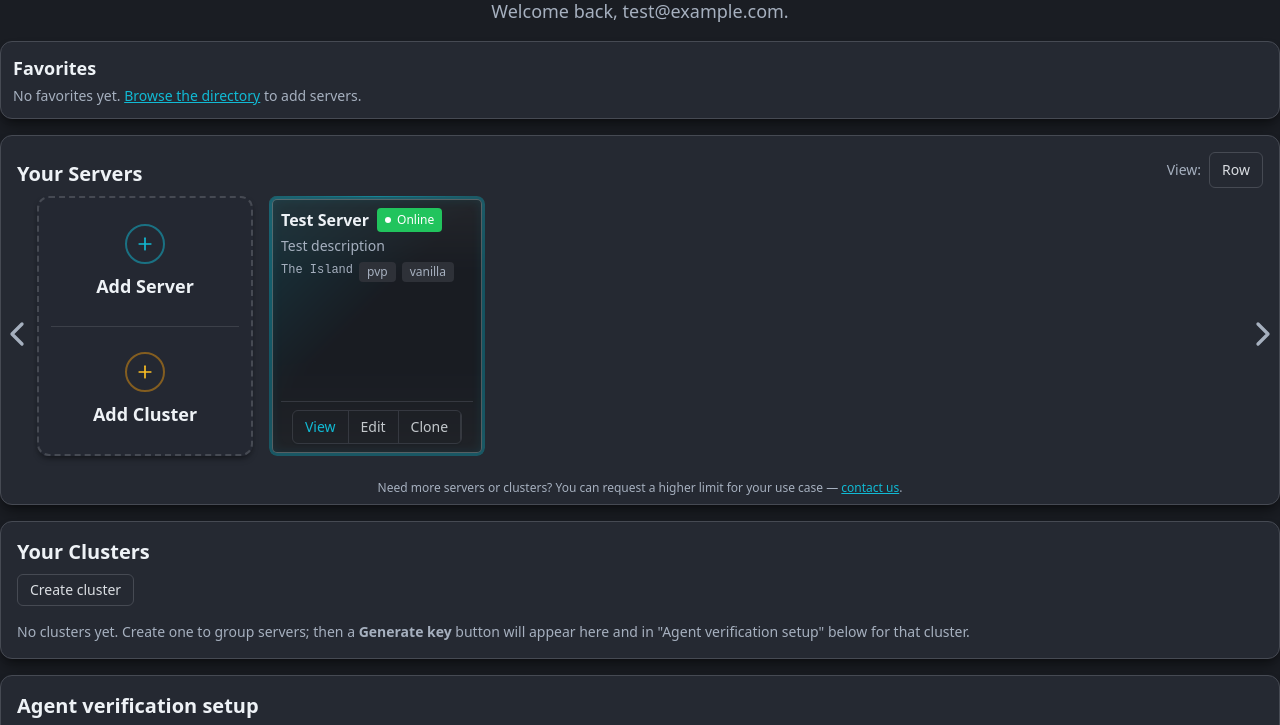
Scenario: DashboardPage › shows delete confirmation dialog
Click the button "Edit" at (374, 427), box [348,411,399,443]
(page scrolled)
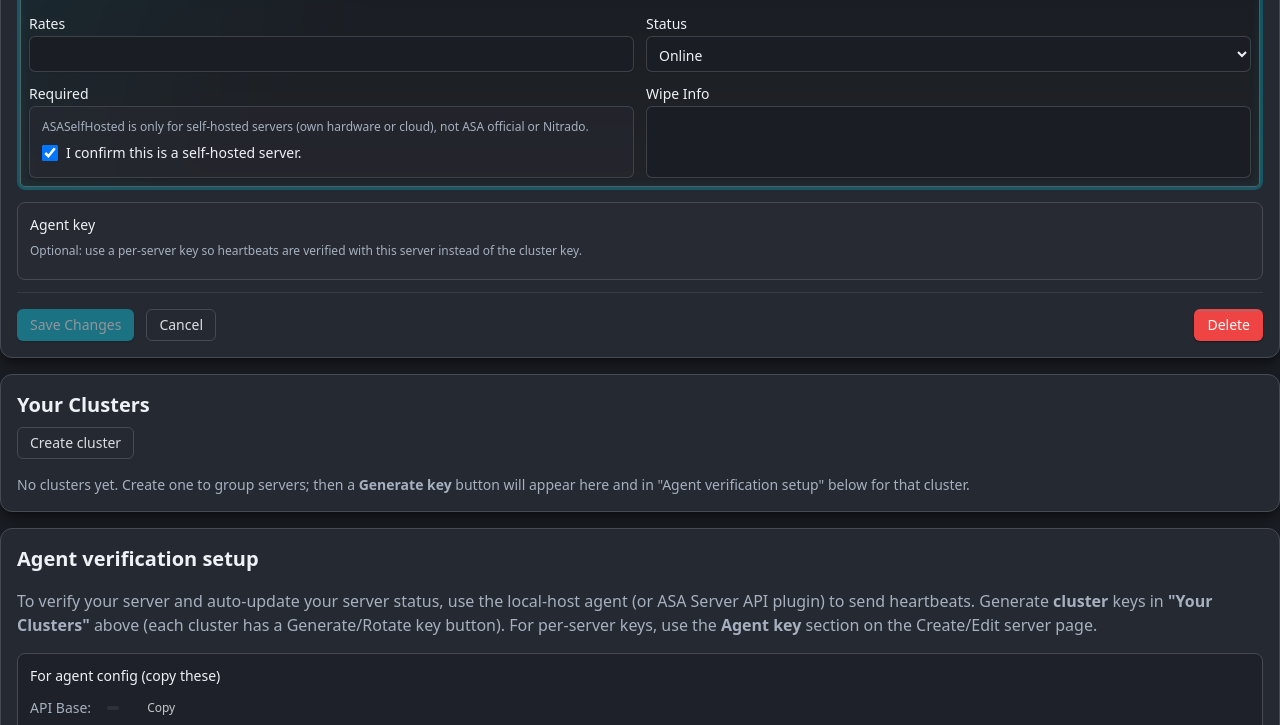
Click the button with aria-label "delete server" at (1229, 325), box [1194,309,1263,341]
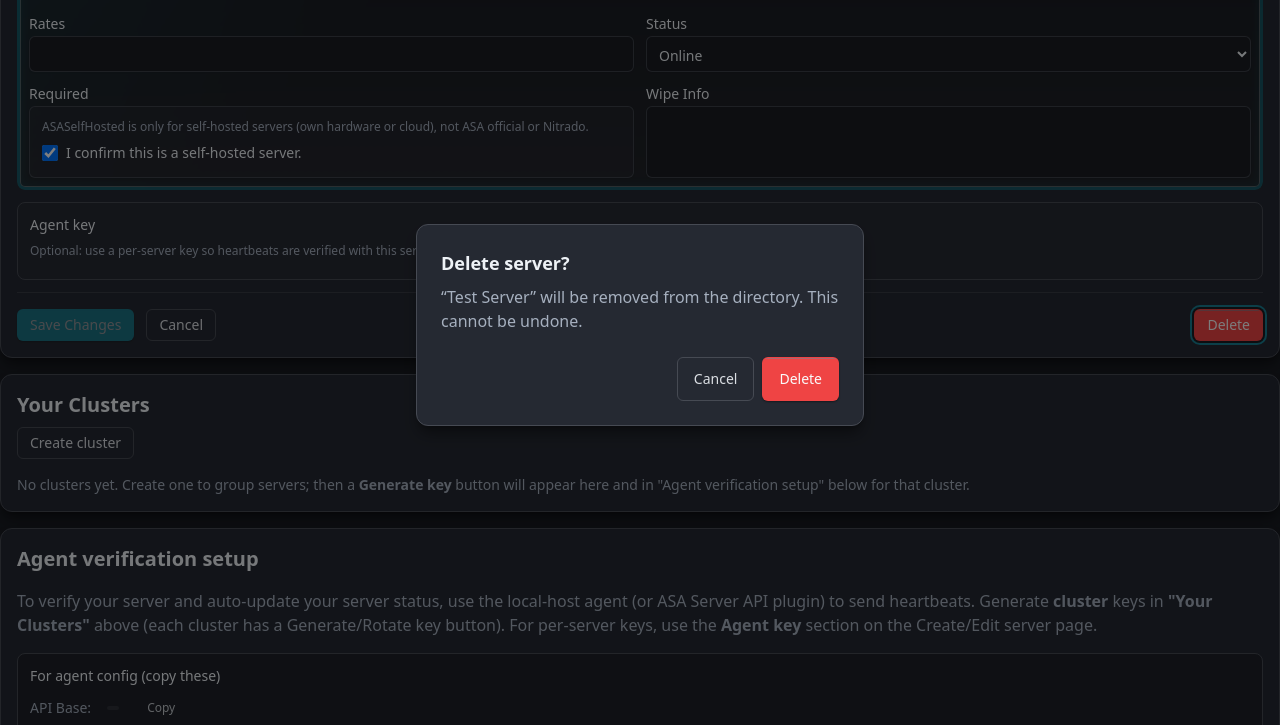
Now the heading "Delete server?" is shown, box [441,251,570,275]
Now the text "Test Server" is shown, box [447,286,530,308]
